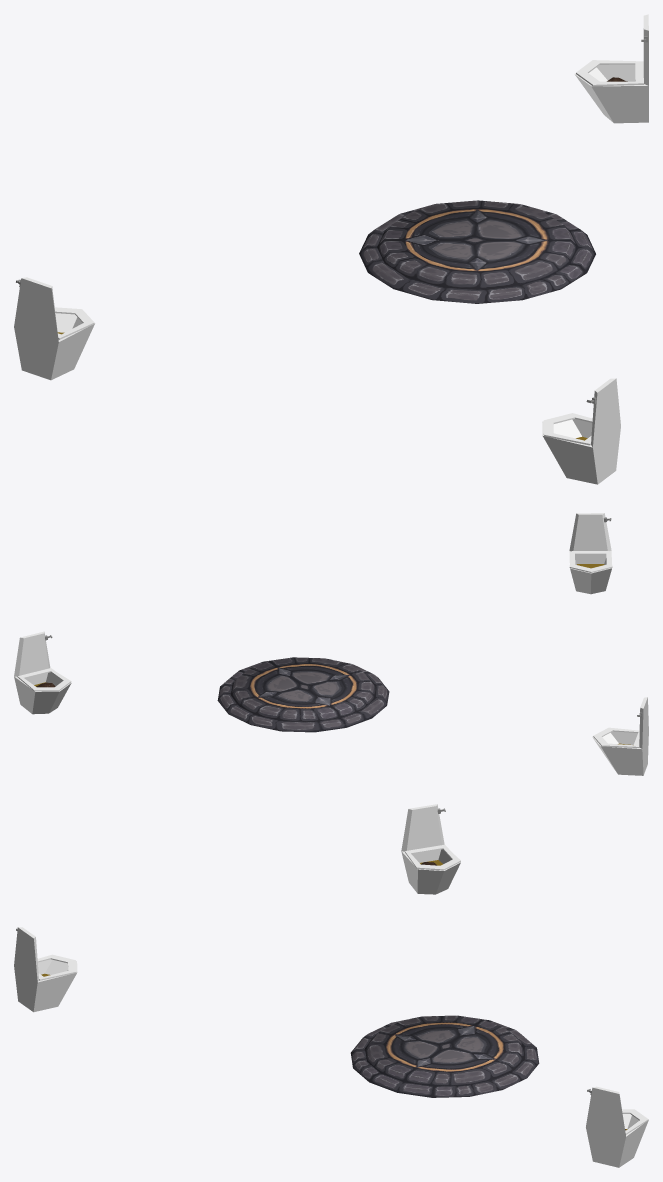
The model's file is Toilet.fbx.
3 renders of one model, top to bottom at view 1: azimuth 30°, elevation 25°; view 2: azimuth 150°, elevation 25°; view 3: azimuth 270°, elevation 25°, orthographic. The views are drawn at different scales.
Parts seen in each view (by area): view 1: SM_PROP_platform_dungeon.001, SM_PROP_dirtpile_dungeon_03.002, Cube.017, Cube.014; view 2: SM_PROP_platform_dungeon.001, Cube.014, Cube.017, SM_PROP_dirtpile_dungeon_03.002; view 3: SM_PROP_platform_dungeon.001, SM_PROP_dirtpile_dungeon_03.002, Cube.014, Cube.017.
Part boxes in pixels (x1,y1,x2,y2): SM_PROP_platform_dungeon.001: (359, 200, 595, 303); SM_PROP_dirtpile_dungeon_03.002: (14, 277, 94, 380); Cube.017: (542, 378, 620, 484); Cube.014: (574, 14, 648, 123); SM_PROP_platform_dungeon.001: (217, 657, 389, 732); Cube.014: (14, 631, 71, 714); Cube.017: (569, 513, 612, 594); SM_PROP_dirtpile_dungeon_03.002: (592, 697, 648, 775); SM_PROP_platform_dungeon.001: (350, 1015, 539, 1097); SM_PROP_dirtpile_dungeon_03.002: (401, 804, 460, 894); Cube.014: (586, 1086, 648, 1167); Cube.017: (14, 927, 77, 1012).
Size of the model in its own units: 12.7 by 1.5 by 11.65.
Materials: 6 (2 with a texture image).
